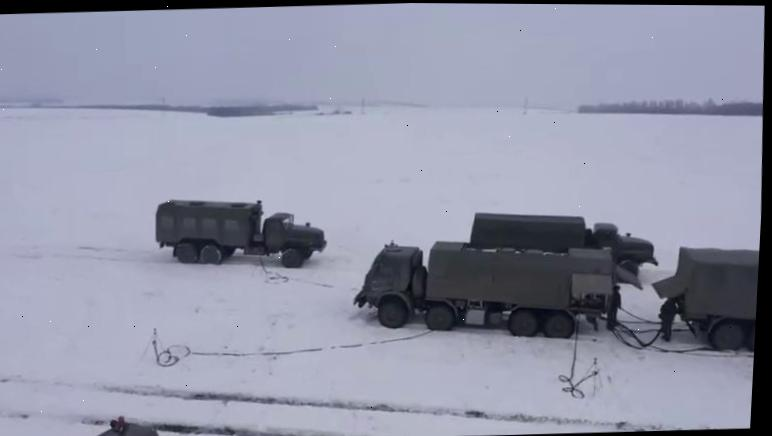truck: (349, 232, 647, 348), (466, 204, 661, 282), (149, 192, 330, 274), (664, 241, 760, 358)
